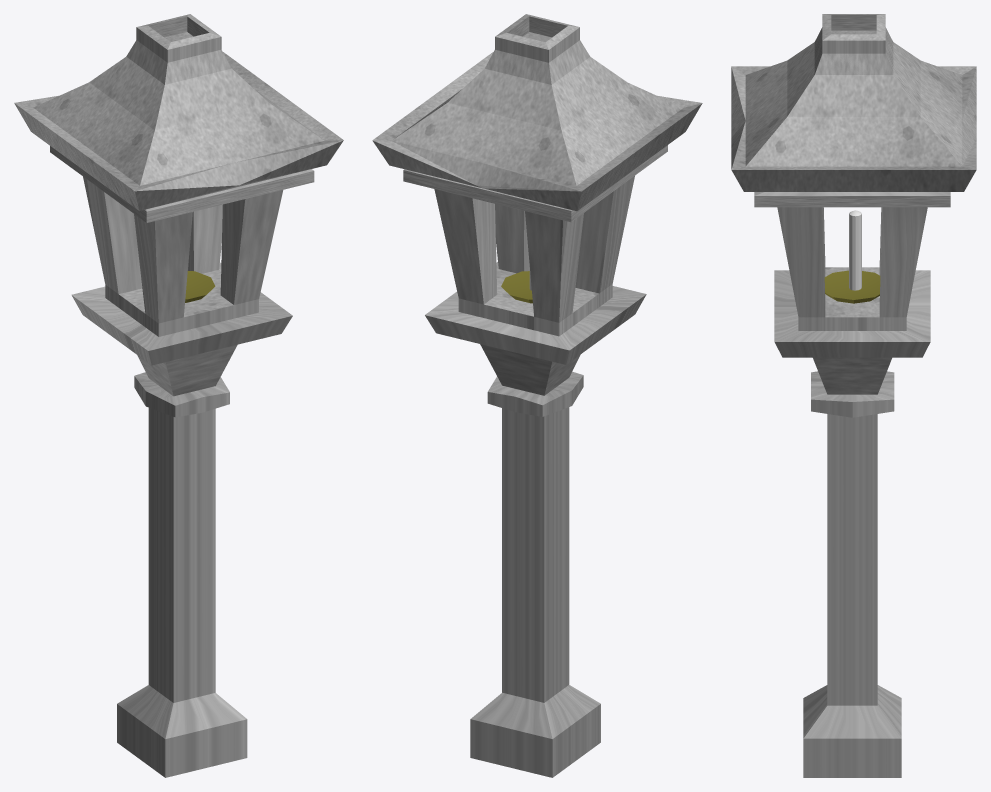
Rendered from tourou 2.fbx.
3 renders of one model, left to right at view 1: azimuth 30°, elevation 25°; view 2: azimuth 150°, elevation 25°; view 3: azimuth 270°, elevation 25°, orthographic.
Visible parts, largest first — view 1: pCube33, pCylinder4; view 2: pCube33, pCylinder4; view 3: pCube33, pCylinder4, pCylinder5.
Part boxes in pixels (box(x1,y1,x2,y2)): pCube33: box(14, 14, 343, 777); pCylinder4: box(185, 271, 215, 302); pCube33: box(372, 14, 702, 777); pCylinder4: box(501, 271, 532, 303); pCube33: box(731, 14, 976, 777); pCylinder4: box(824, 270, 880, 303); pCylinder5: box(849, 210, 861, 290).
Size of the model in its own units: 9.74 by 32.09 by 9.74.
